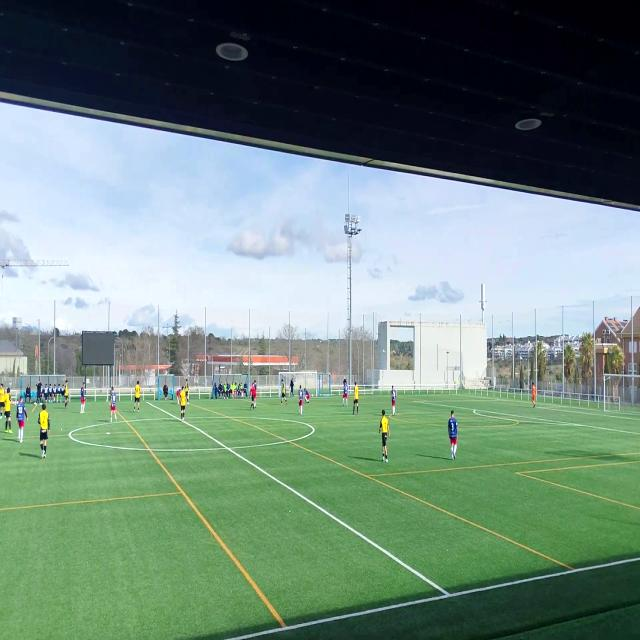bigarea_top_inner: (411, 398, 416, 404)
bigarea_top_outter: (504, 397, 509, 402)
bottom_arc_area_intersection: (574, 418, 586, 431)
corner: (454, 393, 460, 397)
halfcircle_bottom: (222, 438, 237, 458)
halfcircle_top: (174, 412, 180, 422)
midline_top_intersection: (144, 397, 150, 407)
smallarea_top_inner: (536, 404, 538, 409)
smallarea_top_outter: (564, 404, 570, 409)
top_arc_area_intersection: (473, 406, 478, 414)
